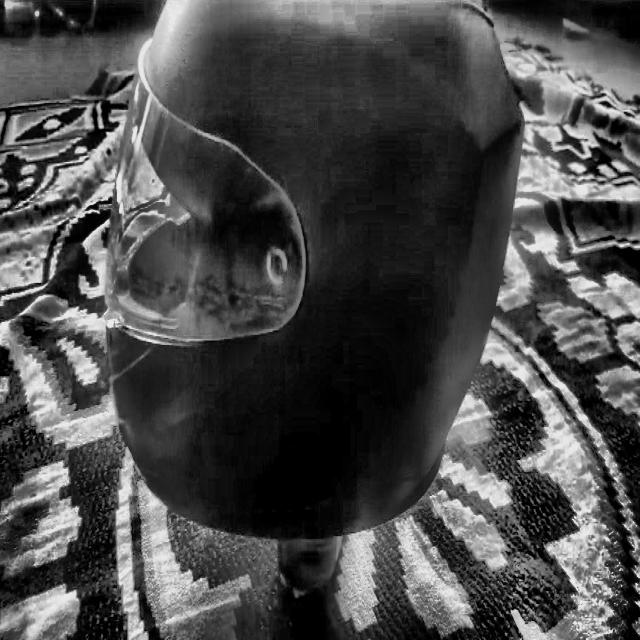Helmet: (100, 0, 524, 540)
